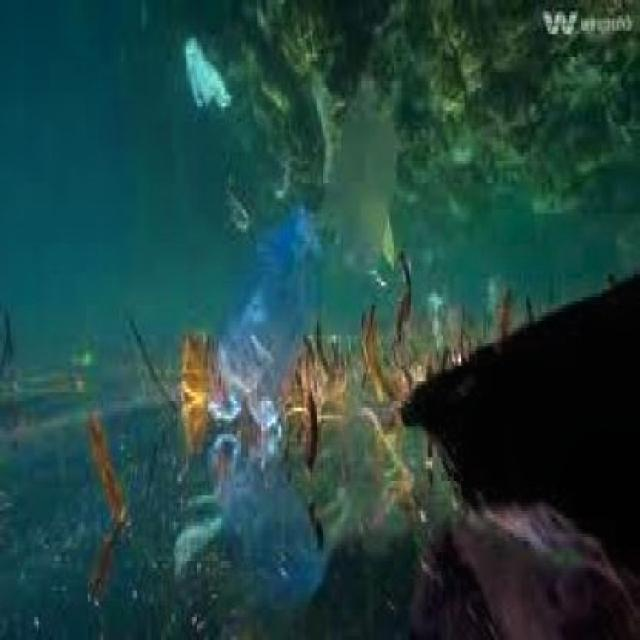pbag: (207, 103, 396, 423)
